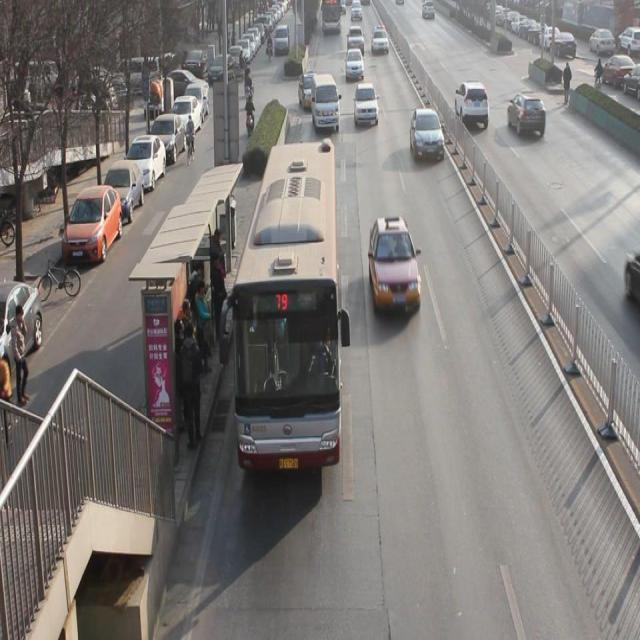car: (369, 223, 425, 320), (409, 110, 446, 164), (508, 92, 548, 141), (456, 84, 491, 133), (354, 83, 380, 129), (299, 72, 322, 114), (372, 26, 391, 58), (346, 28, 366, 57), (345, 54, 365, 82)
truck: (313, 77, 340, 134)
van: (231, 142, 340, 470), (322, 1, 341, 38)
